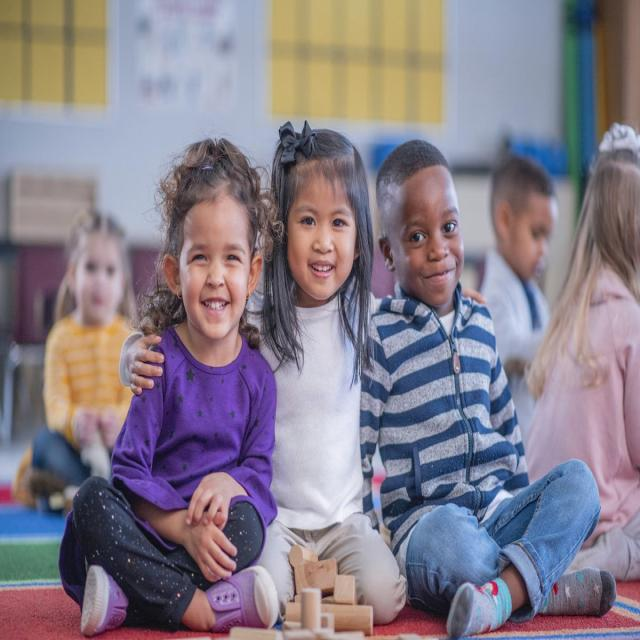child: (362, 137, 618, 631), (71, 137, 282, 636), (245, 125, 409, 618)
